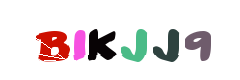1: (36, 0, 116, 80)
9: (142, 0, 222, 80)
B: (13, 0, 93, 80)
J: (79, 0, 159, 80), (101, 0, 181, 80)
K: (60, 0, 140, 80)
